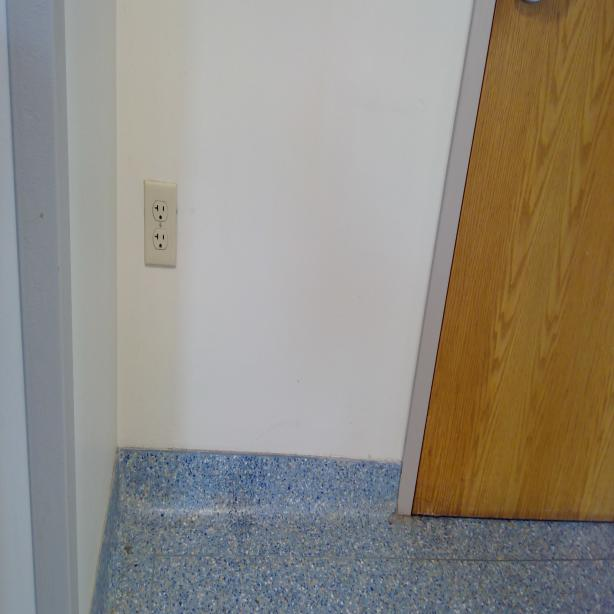typeb: (152, 229, 168, 254), (152, 199, 168, 223)
